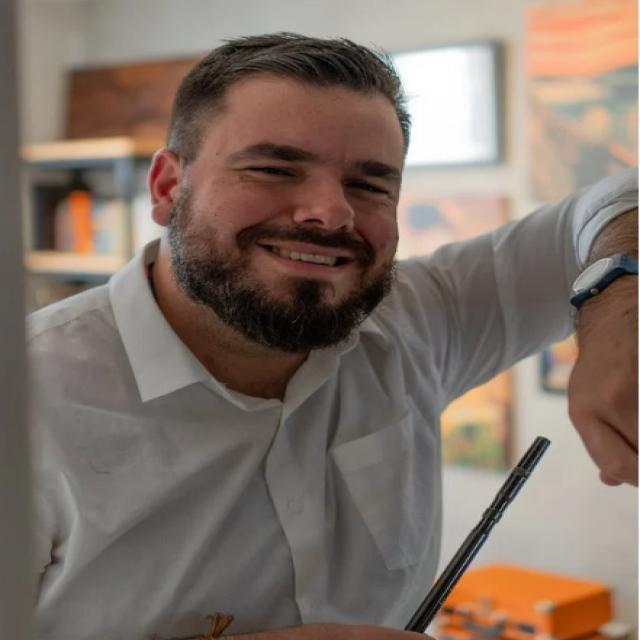Watch: (564, 249, 640, 306)
